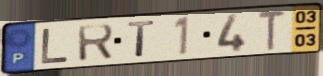1: (173, 15, 190, 57)
4: (215, 12, 249, 54)
L: (39, 27, 72, 66)
R: (76, 23, 116, 64)
T: (256, 9, 288, 52), (126, 19, 158, 59)
